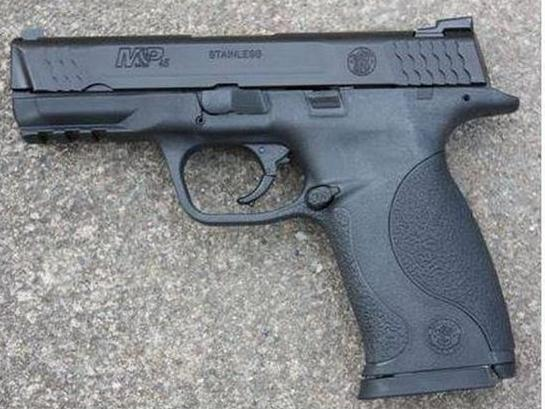gun: (1, 0, 545, 409)
